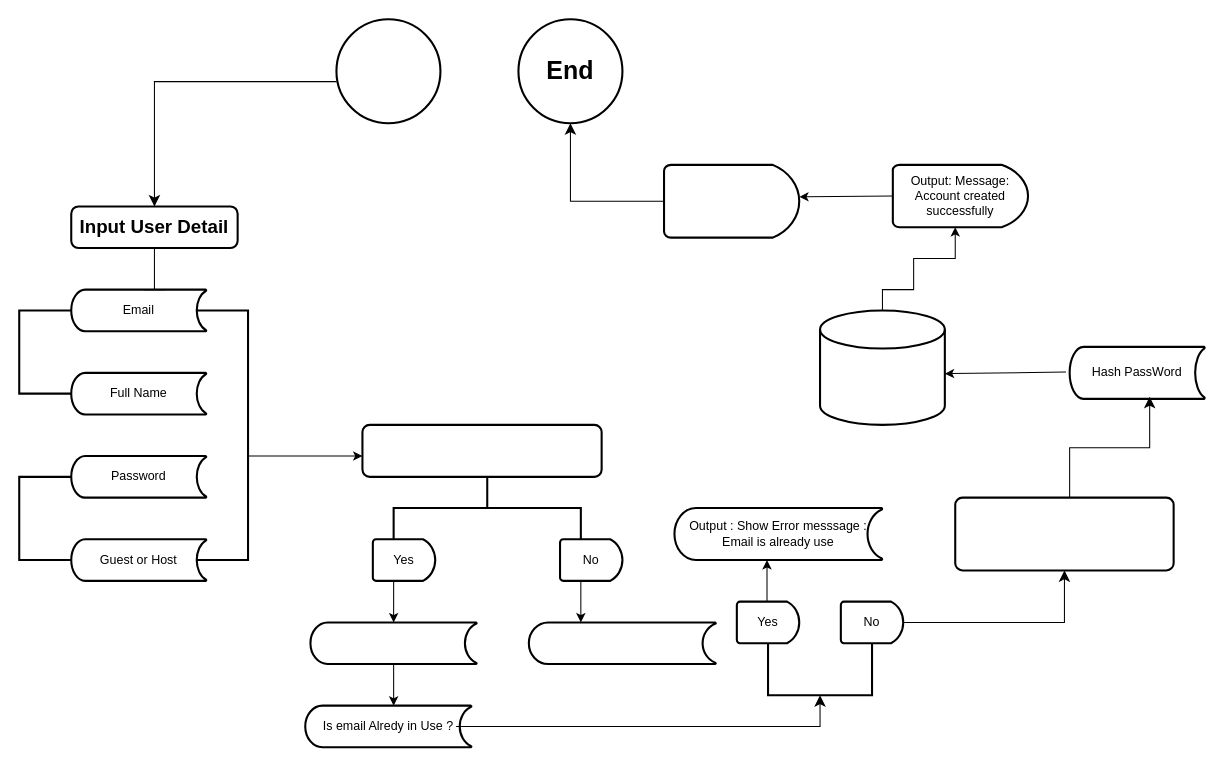
Some shapes in this 1223 by 765 pixel diagram are drawn without their labels. The centre of each missing label's shape, as x and y in pixels:
CREATE ACCOUNT: [1064,533]
Output: Show error message (Missing information): [622,643]
Proceed to check email: [393,643]
Save User details to the database: [881,367]
Send Confirmaton message to Email: Account created successfully: [731,200]
Start: [388,71]
Validate Input, Is all required info provided ?: [481,450]
